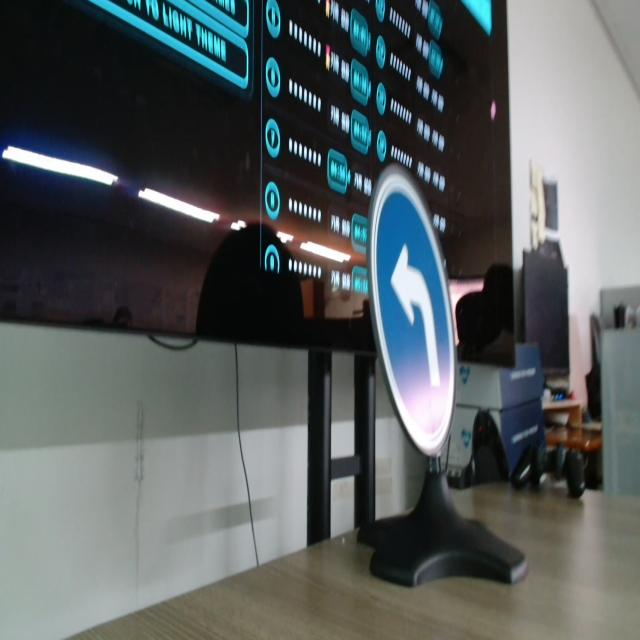left_direction: (360, 158, 458, 449)
